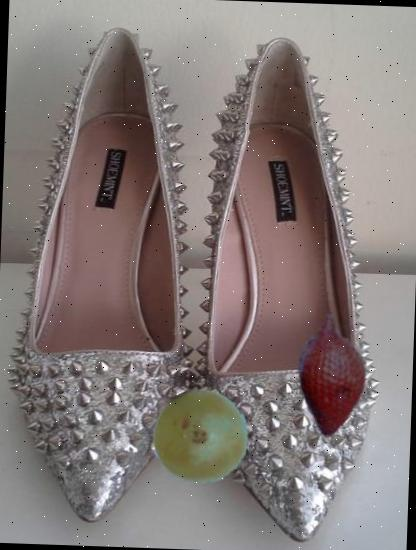Grape: (150, 386, 250, 486)
Salak: (266, 309, 398, 440)
